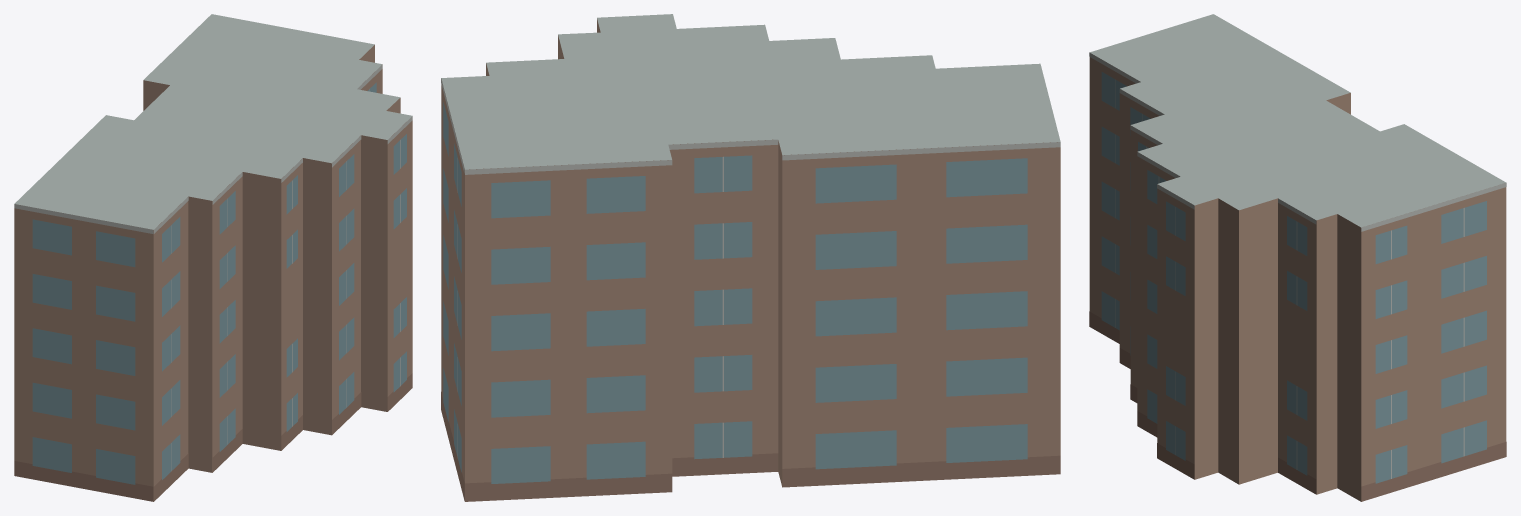
The model's file is survey-upis-32750707.glb.
3 views of the same model, side by side, from view 1: azimuth 30°, elevation 25°; view 2: azimuth 150°, elevation 25°; view 3: azimuth 270°, elevation 25° (orthographic). The views are drawn at different scales.
Parts seen in each view (by area): view 1: survey-upis-32750707.tmp; view 2: survey-upis-32750707.tmp; view 3: survey-upis-32750707.tmp.
Part boxes in pixels (x1,y1,x2,y2): survey-upis-32750707.tmp: (14,14,412,501); survey-upis-32750707.tmp: (441,14,1060,501); survey-upis-32750707.tmp: (1089,14,1506,501).
Bounding box in the file's own units: 25.55 × 15.3 × 21.08.
